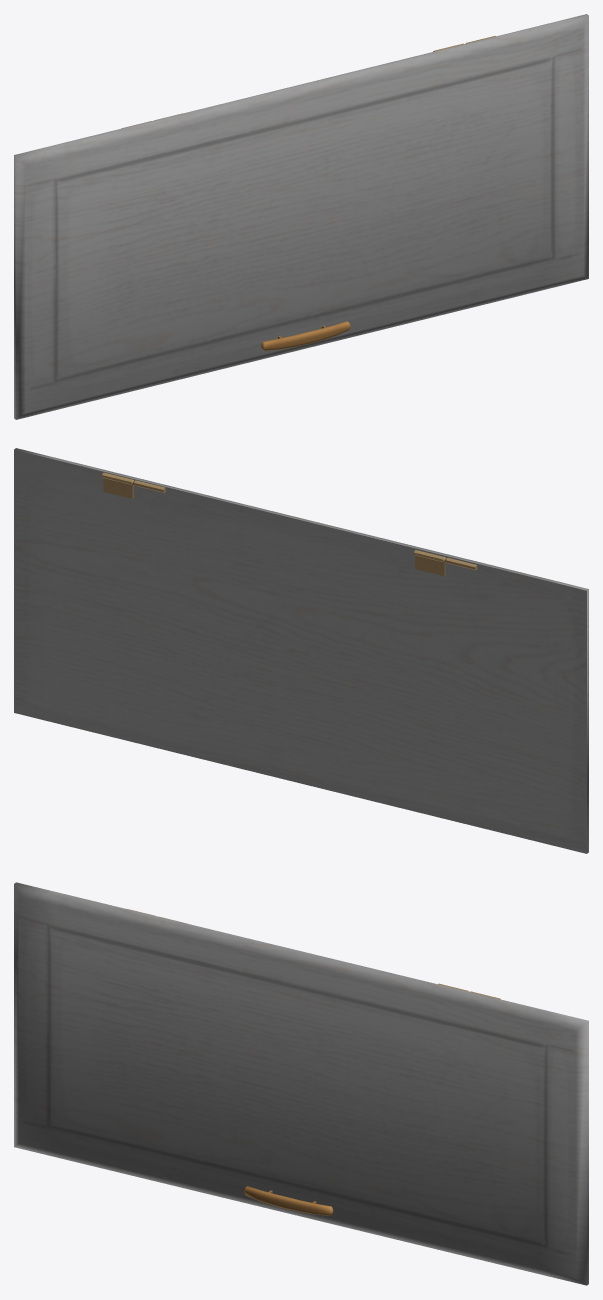
File: SM_KitchenSet_B1_DoorC.fbx
3 views of the same model, one above another, from view 1: azimuth 30°, elevation 25°; view 2: azimuth 150°, elevation 25°; view 3: azimuth 330°, elevation 25° (orthographic).
Visible parts, largest first — view 1: SM_KitchenSet_B1_DoorC; view 2: SM_KitchenSet_B1_DoorC; view 3: SM_KitchenSet_B1_DoorC.
Boxes of the visible parts, box(x1,y1,x2,y2) form: SM_KitchenSet_B1_DoorC: box(14, 14, 588, 419); SM_KitchenSet_B1_DoorC: box(14, 448, 588, 853); SM_KitchenSet_B1_DoorC: box(14, 882, 588, 1285).
Bounding box in the file's own units: 89.62 × 4.32 × 39.56.
2 materials, 2 textured.
